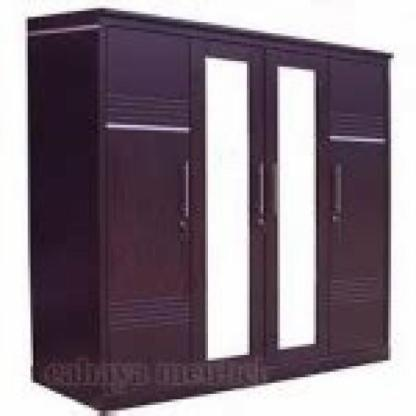Closet: (22, 2, 396, 416)
